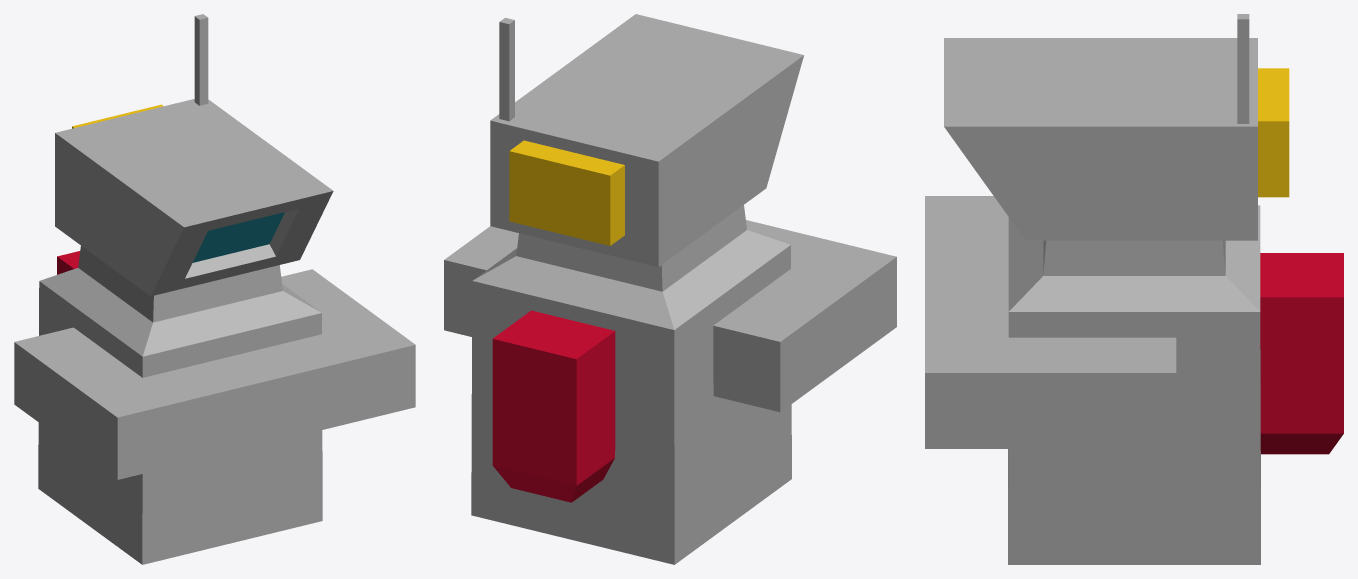
The model's file is Robot Upper half.fbx.
3 renders of one model, left to right at view 1: azimuth 30°, elevation 25°; view 2: azimuth 150°, elevation 25°; view 3: azimuth 270°, elevation 25°, orthographic. The views are drawn at different scales.
Parts seen in each view (by area): view 1: Cube; view 2: Cube; view 3: Cube.
Boxes of the visible parts, x1=… form: Cube: x1=14, y1=14, x2=415, y2=564; Cube: x1=444, y1=14, x2=896, y2=564; Cube: x1=925, y1=14, x2=1343, y2=564.
Size of the model in its own units: 100 by 141 by 100.
